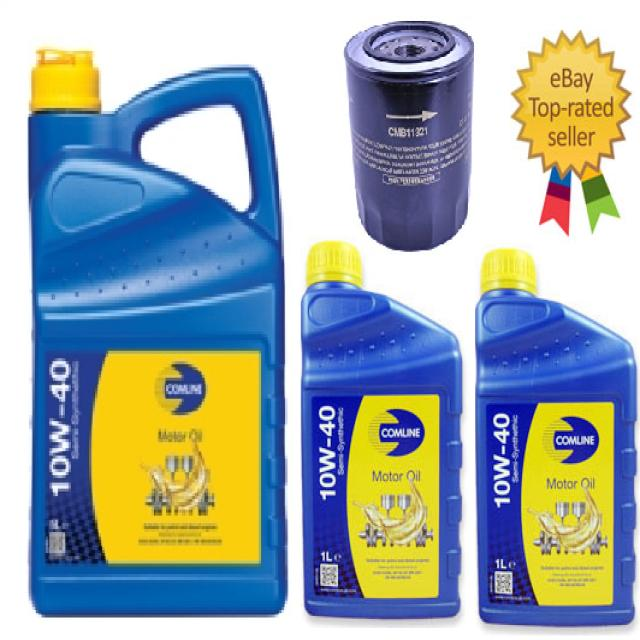motor_oil: (22, 44, 292, 619), (474, 248, 640, 630), (301, 241, 464, 620)
oil_filter: (348, 18, 477, 234)
